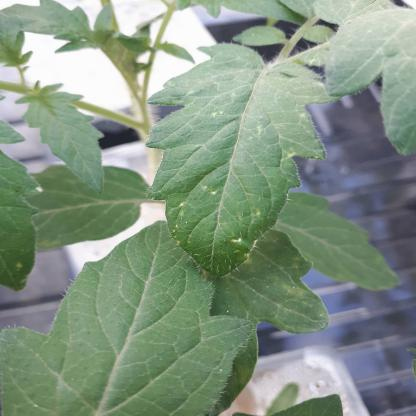tomato mold leaf: (2, 213, 252, 416), (140, 30, 320, 281)
